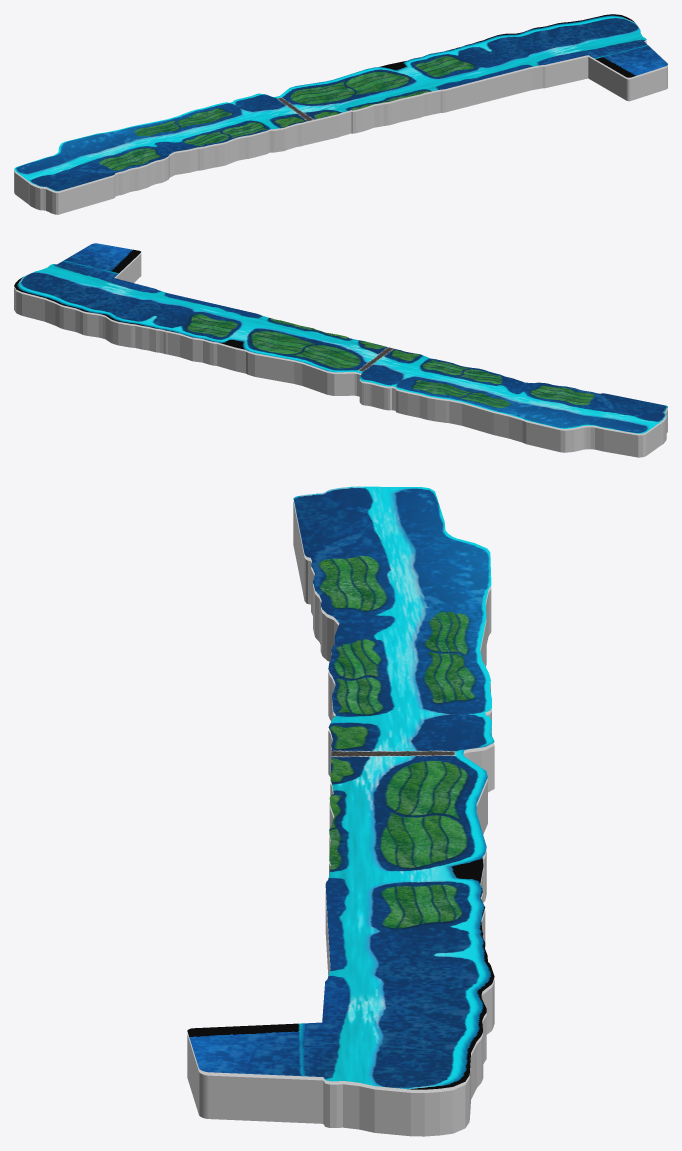
Rendered from testCake透明.glb.
3 views of the same model, one above another, from view 1: azimuth 30°, elevation 25°; view 2: azimuth 150°, elevation 25°; view 3: azimuth 270°, elevation 25° (orthographic). The views are drawn at different scales.
Parts seen in each view (by area): view 1: Curve.001, Curve; view 2: Curve.001, Curve; view 3: Curve.001, Curve.
Boxes of the visible parts, x1=… form: Curve.001: x1=14, y1=14, x2=667, y2=191; Curve: x1=14, y1=40, x2=667, y2=214; Curve.001: x1=14, y1=243, x2=667, y2=433; Curve: x1=14, y1=253, x2=667, y2=457; Curve.001: x1=187, y1=486, x2=494, y2=1089; Curve: x1=187, y1=501, x2=494, y2=1136.
Bounding box in the file's own units: 0.5375 × 0.0194 × 0.1157.
2 materials, 1 textured.
